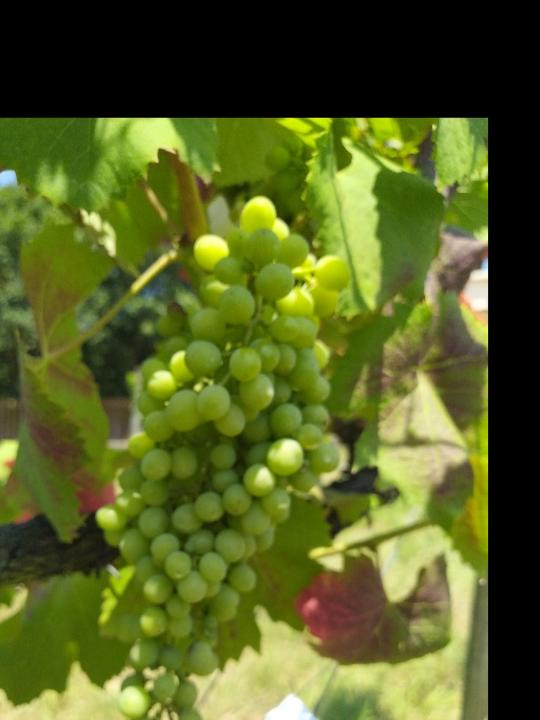grape: (90, 193, 348, 720)
